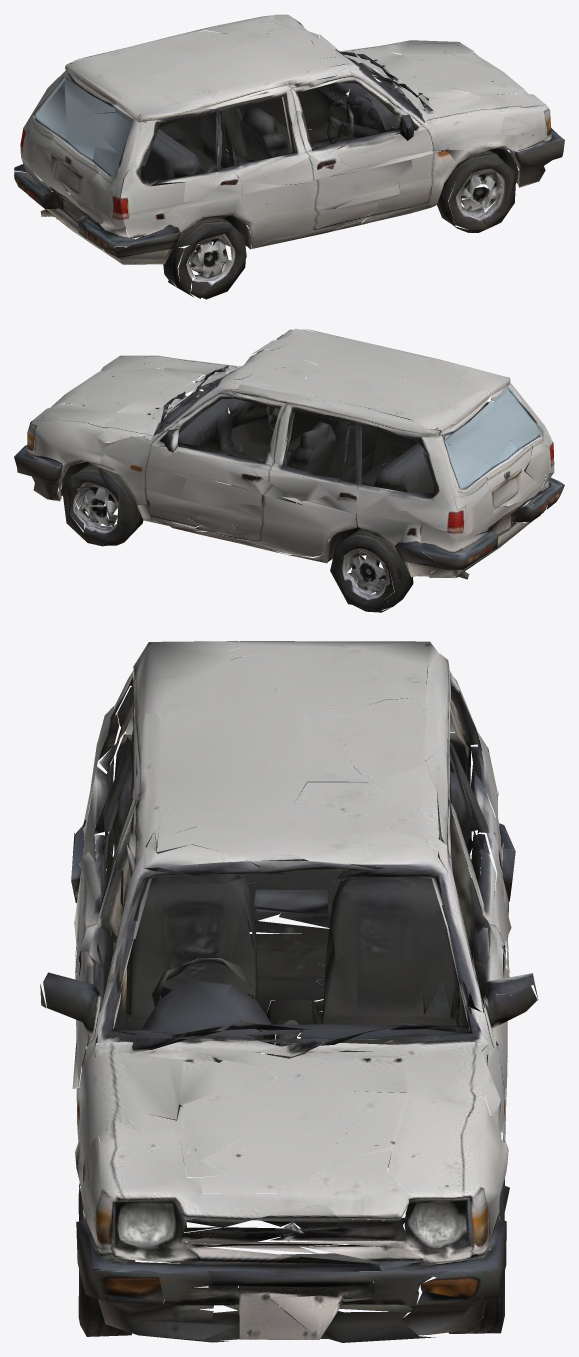
The model's file is kcar.glb.
3 renders of one model, top to bottom at view 1: azimuth 30°, elevation 25°; view 2: azimuth 150°, elevation 25°; view 3: azimuth 270°, elevation 25°, orthographic. The views are drawn at different scales.
Visible parts, largest first — view 1: tripo_node_24d36445-106b-4d14-9fcc-577f7fb6994d; view 2: tripo_node_24d36445-106b-4d14-9fcc-577f7fb6994d; view 3: tripo_node_24d36445-106b-4d14-9fcc-577f7fb6994d.
Boxes of the visible parts, <box> form: tripo_node_24d36445-106b-4d14-9fcc-577f7fb6994d: <box>14,14,564,299</box>; tripo_node_24d36445-106b-4d14-9fcc-577f7fb6994d: <box>14,328,564,612</box>; tripo_node_24d36445-106b-4d14-9fcc-577f7fb6994d: <box>40,641,538,1342</box>.
Bounding box in the file's own units: 3.78 × 1.5 × 1.79.
Materials: 1 (1 with a texture image).
